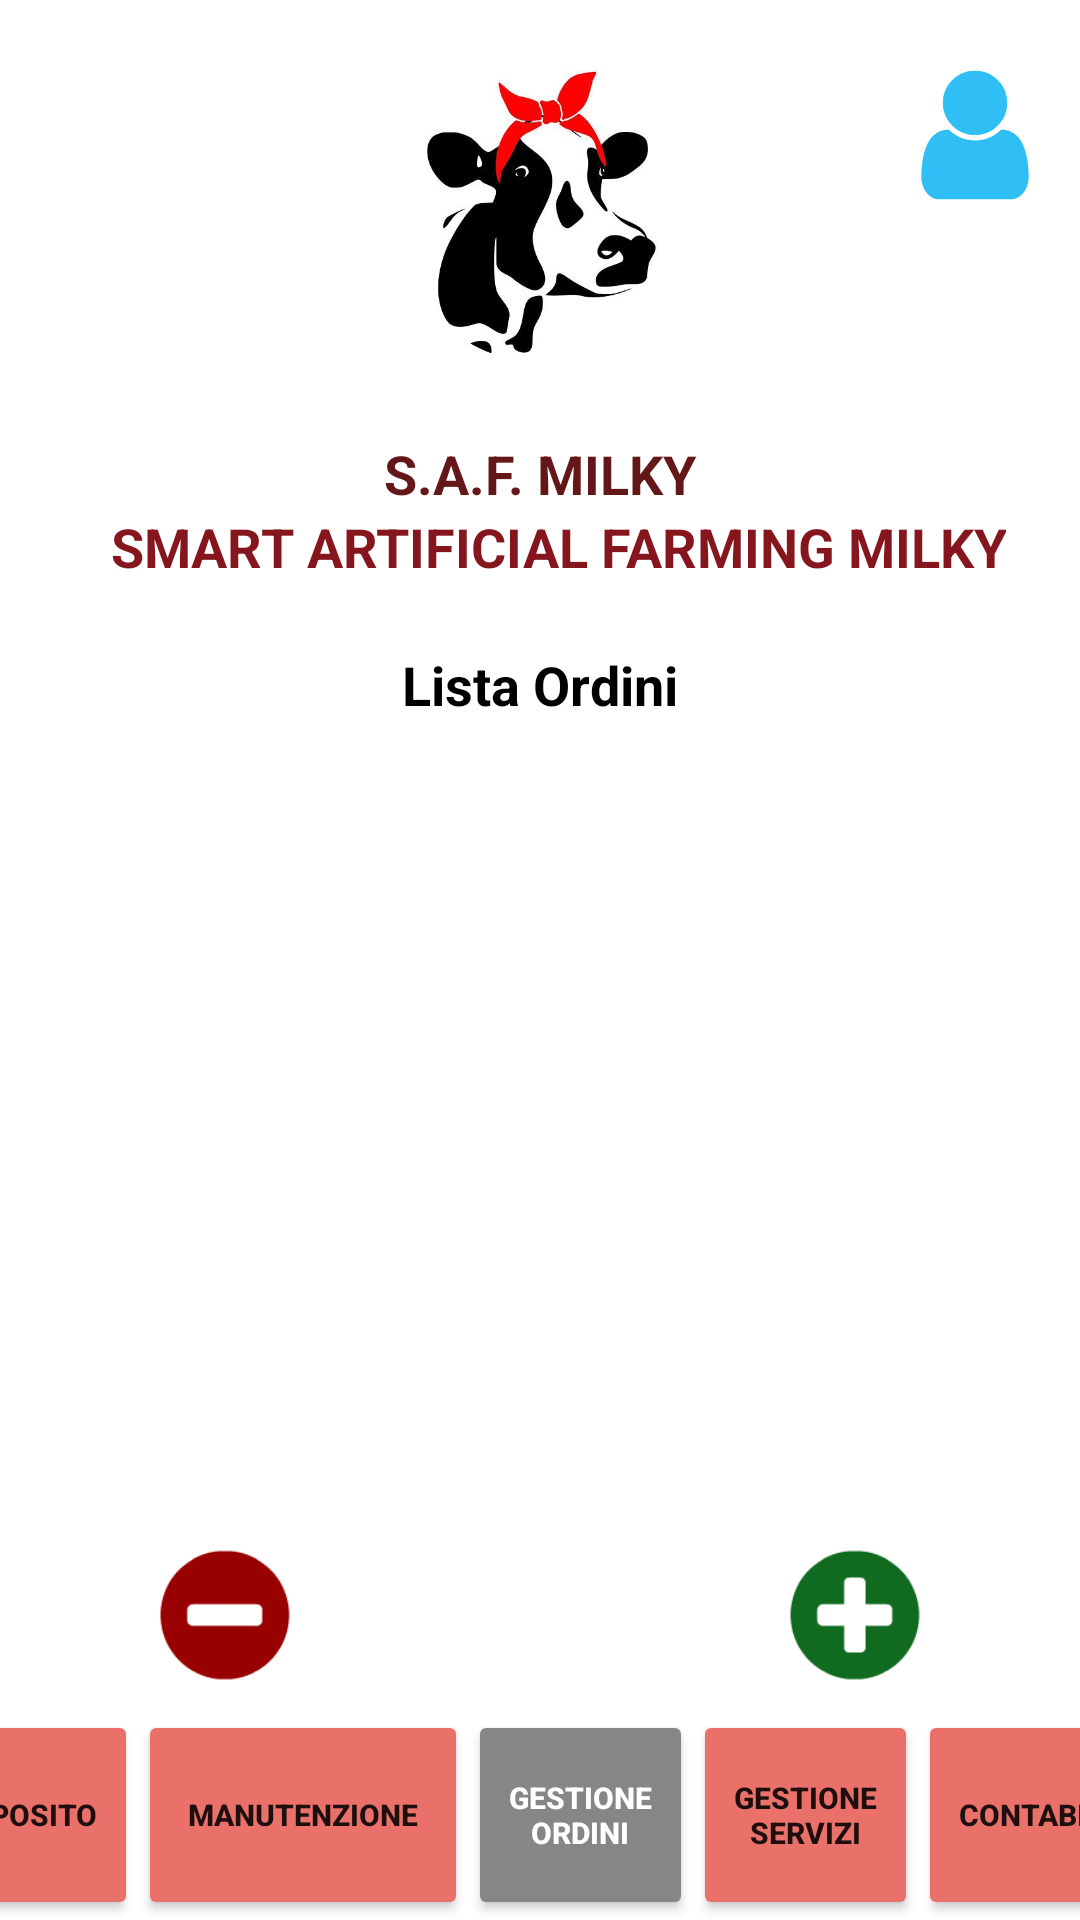

Icon click points for this 1080px x 1920px phone screenshot, format (x=x, y=y):
cont aggiungi: (x=855, y=1615)
ordini rimuovi: (x=225, y=1615)
user: (x=975, y=135)
